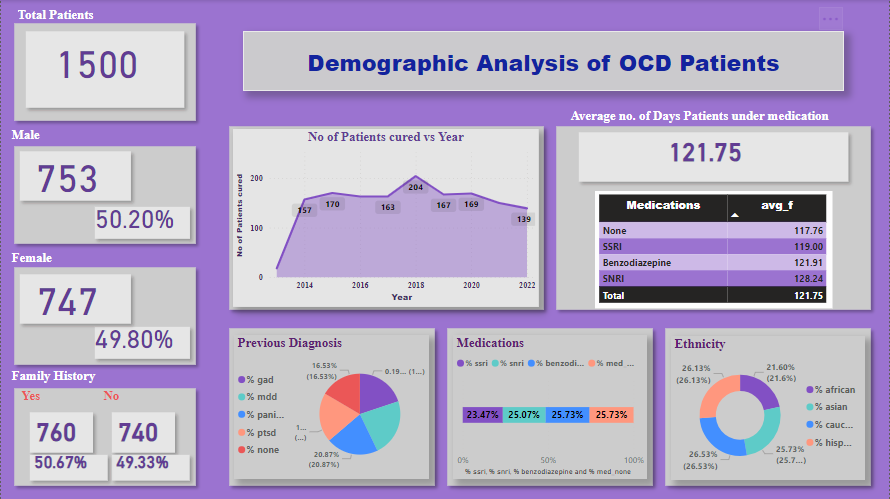

The page's visual inventory and layout, read from the dashboard file:
{"tool":"powerbi","page":{"name":"Page 1","canvas":[1280,720],"ordinal":0},"visuals":[{"type":"shape","box":[10.1,24.5,279.4,158.4],"z":0},{"type":"shape","box":[10.1,201.6,279.4,158.4],"z":1000},{"type":"shape","box":[10.1,375.8,279.4,158.4],"z":2000},{"type":"shape","box":[10.1,550.1,279.4,158.4],"z":3000},{"type":"shape","box":[319.7,463.7,313.9,244.8],"z":4000},{"type":"shape","box":[947.5,463.7,313.9,244.8],"z":5000},{"type":"shape","box":[633.6,463.7,313.9,244.8],"z":6000},{"type":"shape","box":[319.7,172.8,470.9,282.2],"z":7000},{"type":"shape","box":[790.6,172.8,470.9,282.2],"z":8000},{"type":"textbox","box":[348.5,44.6,865.4,86.4],"z":9000},{"type":"cardVisual","title":"Male","fields":{"Data":["All measures.% male"]},"box":[118.1,280.8,171.4,80.6],"z":10000},{"type":"cardVisual","title":"Total Patients","fields":{"Data":["All measures.Total Patients"]},"box":[18.7,10.1,262.1,162.7],"z":11000},{"type":"cardVisual","title":"Male","fields":{"Data":["All measures.% female"]},"box":[118.1,453.6,171.4,80.6],"z":12000},{"type":"cardVisual","title":"Male","fields":{"Data":["All measures.Male"]},"box":[10.1,182.9,194.4,123.8],"z":13000},{"type":"cardVisual","title":"Female","fields":{"Data":["All measures.Female"]},"box":[10.1,360,194.4,123.8],"z":14000},{"type":"donutChart","title":"Ethnicity","fields":{"Y":["All measures.% african","All measures.% asian","All measures.% caucasian","All measures.% hispanic"]},"box":[965,483.8,280,207.5],"z":15000},{"type":"hundredPercentStackedBarChart","title":"Medications","fields":{"Y":["All measures.% ssri","All measures.% snri","All measures.% benzodiazepine","All measures.% med_none"]},"box":[651.2,482.5,280,207.5],"z":16000},{"type":"cardVisual","title":"No","fields":{"Data":["All measures.fam_n"]},"box":[142.5,558.8,125,110],"z":17000},{"type":"cardVisual","title":"Male","fields":{"Data":["All measures.% h_no"]},"box":[142.5,637.5,146.2,71.2],"z":18000},{"type":"cardVisual","title":"Yes","fields":{"Data":["All measures.fam_y"]},"box":[25,558.8,125,110],"z":19000},{"type":"cardVisual","title":"Male","fields":{"Data":["All measures.% h_yes"]},"box":[25,637.5,146.2,71.2],"z":20000},{"type":"textbox","box":[9.7,525,219.4,33.3],"z":21000},{"type":"pieChart","title":"Previous Diagnosis","fields":{"Y":["All measures.% gad","All measures.% mdd","All measures.% panic disorder","All measures.% ptsd","All measures.% none"]},"box":[336.1,481.9,280.6,206.9],"z":22000},{"type":"cardVisual","title":"Average no. of Days Patients under medication","fields":{"Data":["All measures.avg"]},"box":[815.3,155.6,422.2,123.6],"z":24001},{"type":"tableEx","fields":{"Values":["ocd_patient_dataset.Medications","All measures.avg_f"]},"box":[855.6,275,341.7,169.4],"z":24002},{"type":"stackedAreaChart","title":"No of Patients cured vs Year","fields":{"Category":["ocd_patient_dataset.OCD Diagnosis Date.Variation.Date Hierarchy.Year"],"Y":["CountNonNull(ocd_patient_dataset.Patient ID)"]},"box":[334.7,186.1,440.3,255.6],"z":24003}]}

Visuals, with their boxes in screenshot pixels (x1, y1, x2, y2), scaled from the page's 1280x720 canvas onto the 890x499 screenshot:
shape: [7, 17, 201, 127]
shape: [7, 140, 201, 250]
shape: [7, 260, 201, 370]
shape: [7, 381, 201, 491]
shape: [222, 321, 441, 491]
shape: [659, 321, 877, 491]
shape: [441, 321, 659, 491]
shape: [222, 120, 550, 315]
shape: [550, 120, 877, 315]
textbox: [242, 31, 844, 91]
"Male" cardVisual: [82, 195, 201, 250]
"Total Patients" cardVisual: [13, 7, 195, 120]
"Male" cardVisual: [82, 314, 201, 370]
"Male" cardVisual: [7, 127, 142, 213]
"Female" cardVisual: [7, 250, 142, 335]
"Ethnicity" donutChart: [671, 335, 866, 479]
"Medications" hundredPercentStackedBarChart: [453, 334, 647, 478]
"No" cardVisual: [99, 387, 186, 464]
"Male" cardVisual: [99, 442, 201, 491]
"Yes" cardVisual: [17, 387, 104, 464]
"Male" cardVisual: [17, 442, 119, 491]
textbox: [7, 364, 159, 387]
"Previous Diagnosis" pieChart: [234, 334, 429, 477]
"Average no. of Days Patients under medication" cardVisual: [567, 108, 860, 194]
tableEx - ocd_patient_dataset.Medications x All measures.avg_f: [595, 191, 832, 308]
"No of Patients cured vs Year" stackedAreaChart: [233, 129, 539, 306]
